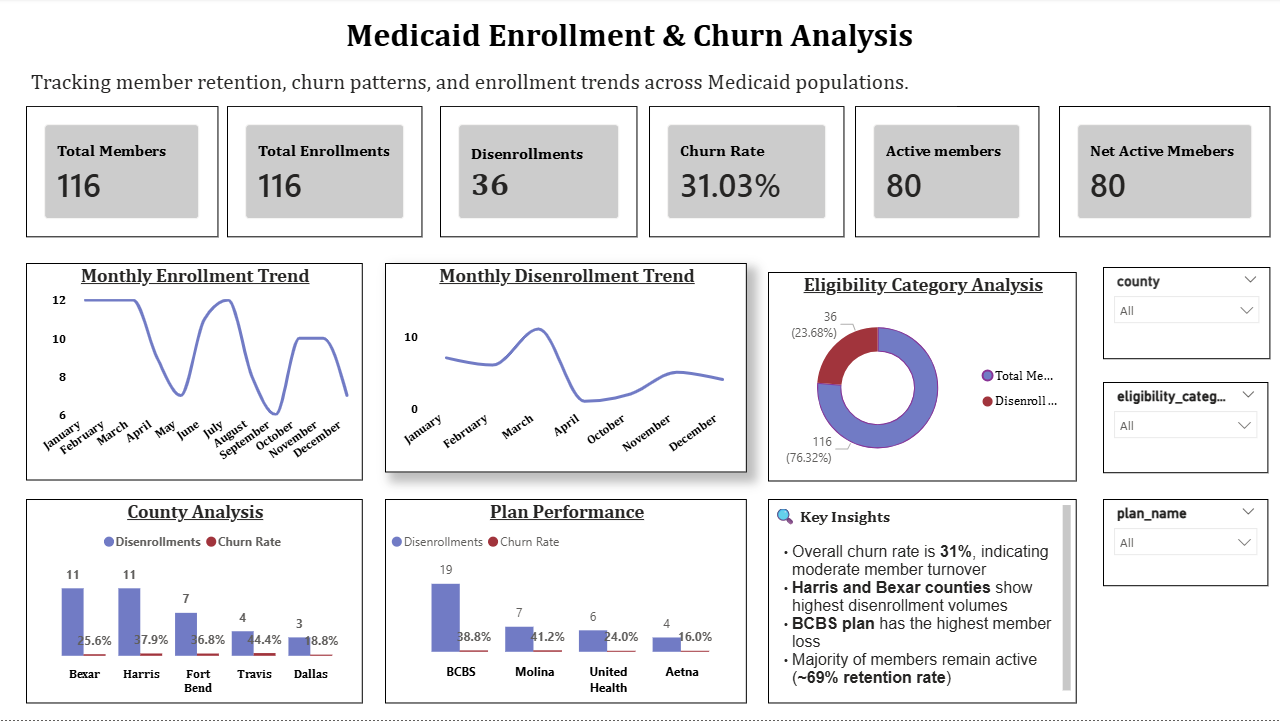

What the dashboard file says about the page in this screenshot:
{"tool":"powerbi","page":{"name":"Page 1","canvas":[1280,720],"ordinal":0},"visuals":[{"type":"cardVisual","fields":{"Data":["enrollment_history.Total Members"]},"box":[27.9,108,191.7,131.3],"z":0},{"type":"cardVisual","fields":{"Data":["enrollment_history.Total Enrollment"]},"box":[228.8,108,195.1,131.3],"z":1000},{"type":"cardVisual","fields":{"Data":["enrollment_history.Disenrollments"]},"box":[441.4,108,197.5,131.3],"z":2000},{"type":"cardVisual","fields":{"Data":["enrollment_history.Churn Rate"]},"box":[649.3,108,195.1,131.3],"z":3000},{"type":"cardVisual","fields":{"Data":["enrollment_history.Active members"]},"box":[854.9,108,183.5,131.3],"z":4000},{"type":"lineChart","title":"Monthly Enrollment Trend","fields":{"Category":["enrollment_history.enrollment_date.Variation.Date Hierarchy.Month"],"Y":["enrollment_history.Total Enrollment"]},"box":[27.9,264.8,335.7,217.2],"z":5000},{"type":"lineChart","title":"Monthly Disenrollment Trend","fields":{"Category":["enrollment_history.disenrollment_date.Variation.Date Hierarchy.Month"],"Y":["enrollment_history.Total Enrollment"]},"box":[385.6,264.8,361.2,209.1],"z":6000},{"type":"clusteredColumnChart","title":"County Analysis","fields":{"Category":["members.county"],"Y":["enrollment_history.Disenrollments","enrollment_history.Churn Rate"]},"box":[27.9,499.5,335.7,204.4],"z":7000},{"type":"clusteredColumnChart","title":"Plan Performance","fields":{"Category":["members.plan_name"],"Y":["enrollment_history.Disenrollments","enrollment_history.Churn Rate"]},"box":[385.6,499.5,361.2,204.4],"z":8000},{"type":"donutChart","title":"Eligibility Category Analysis","fields":{"Y":["CountNonNull(members.eligibility_category)","enrollment_history.Disenrollments"]},"box":[767.8,273,307.8,209.1],"z":9000},{"type":"slicer","fields":{"Values":["members.county"]},"box":[1102.3,268.3,167.3,91.8],"z":10000},{"type":"slicer","fields":{"Values":["members.eligibility_category"]},"box":[1102.3,383.3,164.9,90.6],"z":11000},{"type":"slicer","fields":{"Values":["members.plan_name"]},"box":[1102.3,499.5,164.9,87.1],"z":12000},{"type":"textbox","box":[342.6,12.8,592.4,53.4],"z":13000},{"type":"cardVisual","fields":{"Data":["enrollment_history.Net Growth"]},"box":[1058.1,108,211.4,131.3],"z":14000},{"type":"textbox","box":[767.8,499.5,307.8,204.4],"z":15000},{"type":"textbox","box":[27.9,66.2,928.1,41.8],"z":15001}]}

Visuals, with their boxes in screenshot pixels (x1, y1, x2, y2), scaled from the page's 1280x720 canvas onto the 1280x721 screenshot:
cardVisual - enrollment_history.Total Members: 28,108,220,240
cardVisual - enrollment_history.Total Enrollment: 229,108,424,240
cardVisual - enrollment_history.Disenrollments: 441,108,639,240
cardVisual - enrollment_history.Churn Rate: 649,108,844,240
cardVisual - enrollment_history.Active members: 855,108,1038,240
"Monthly Enrollment Trend" lineChart: 28,265,364,483
"Monthly Disenrollment Trend" lineChart: 386,265,747,475
"County Analysis" clusteredColumnChart: 28,500,364,705
"Plan Performance" clusteredColumnChart: 386,500,747,705
"Eligibility Category Analysis" donutChart: 768,273,1076,483
slicer - members.county: 1102,269,1270,361
slicer - members.eligibility_category: 1102,384,1267,475
slicer - members.plan_name: 1102,500,1267,587
textbox: 343,13,935,66
cardVisual - enrollment_history.Net Growth: 1058,108,1270,240
textbox: 768,500,1076,705
textbox: 28,66,956,108
